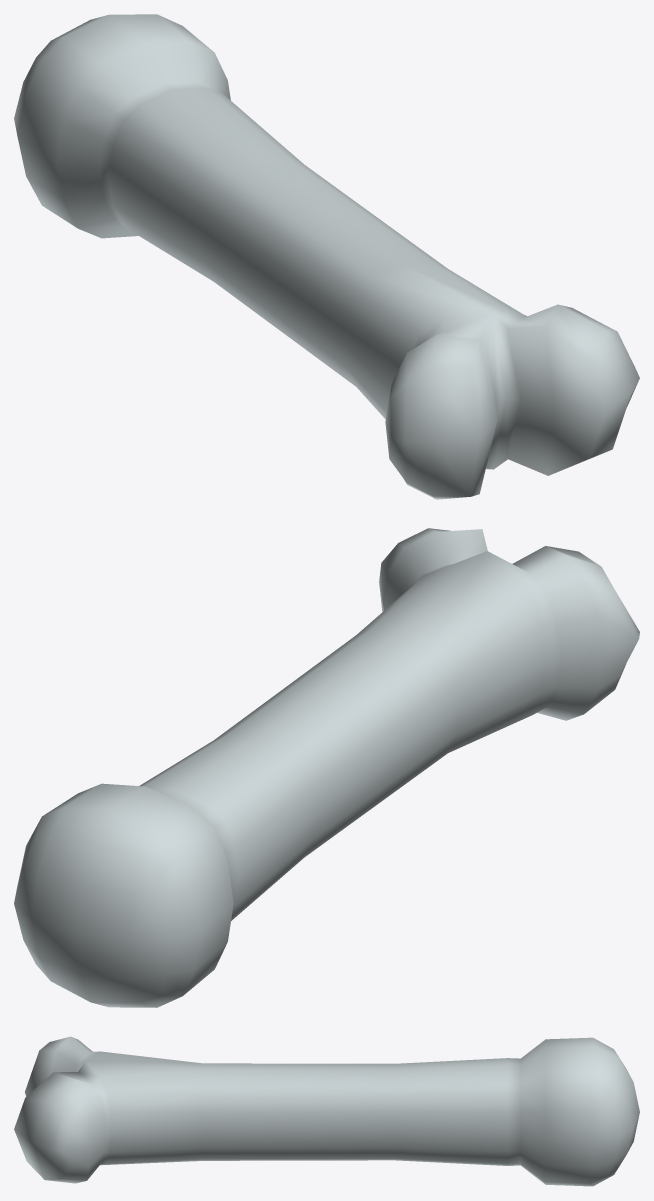
File: bone_01.fbx
3 views of the same model, one above another, from view 1: azimuth 30°, elevation 25°; view 2: azimuth 150°, elevation 25°; view 3: azimuth 270°, elevation 25° (orthographic). The views are drawn at different scales.
Parts seen in each view (by area): view 1: bone_01; view 2: bone_01; view 3: bone_01.
Boxes of the visible parts, x1,y1,x2,y2 form: bone_01: (14,14,639,499); bone_01: (14,528,639,1007); bone_01: (14,1036,639,1186).
Bounding box in the file's own units: 0.131 × 0.0976 × 0.4208.
Materials: 1 (1 with a texture image).
